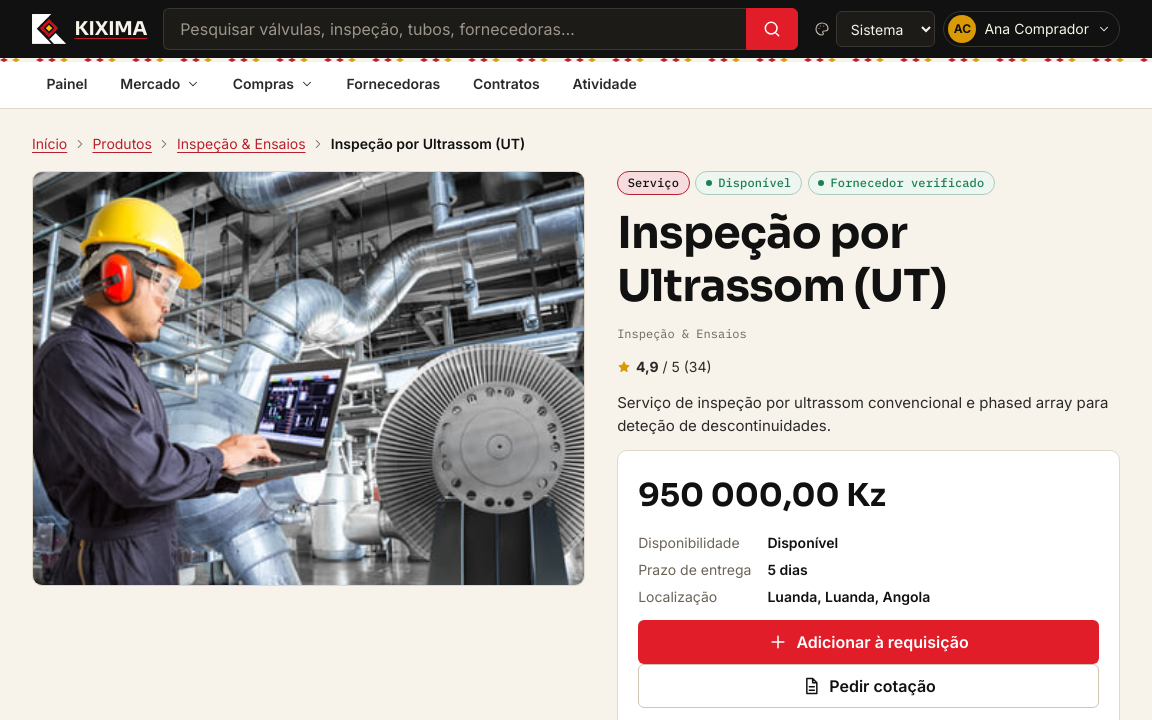
Test: ficha do produto › se o servidor recusar o pedido, mostra o erro e NÃO finge que enviou
This screenshot has width=1152, height=720.
Click the button "Pedir cotação" at coordinates (869, 686), box [638,664,1099,708]
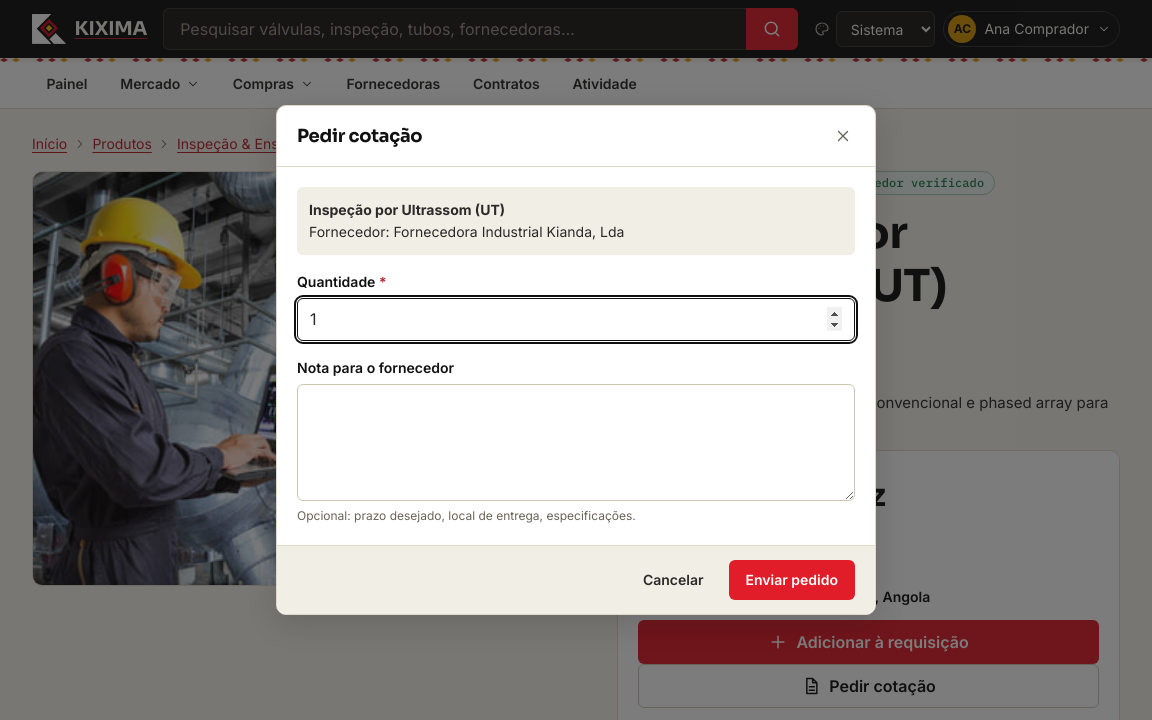
Click the button "Enviar pedido" at coordinates (792, 580), box [728,560,855,600]
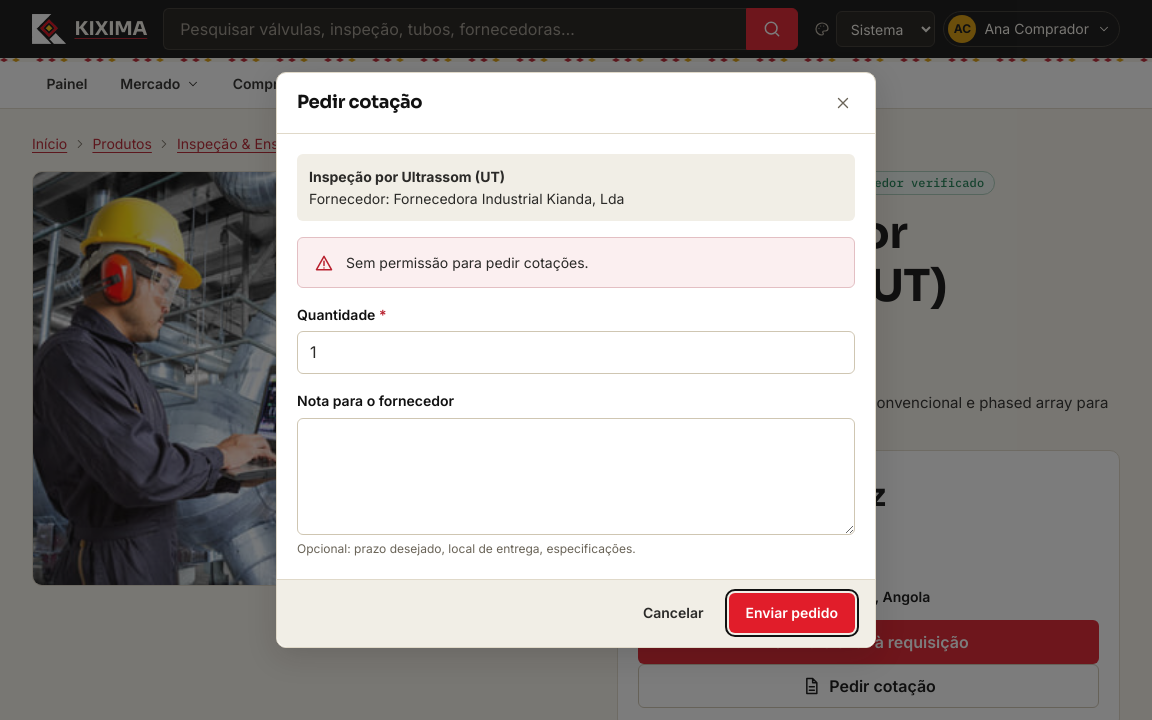
Expected: the text "Sem permissão para pedir cotações." is shown, [346,254,589,271]
